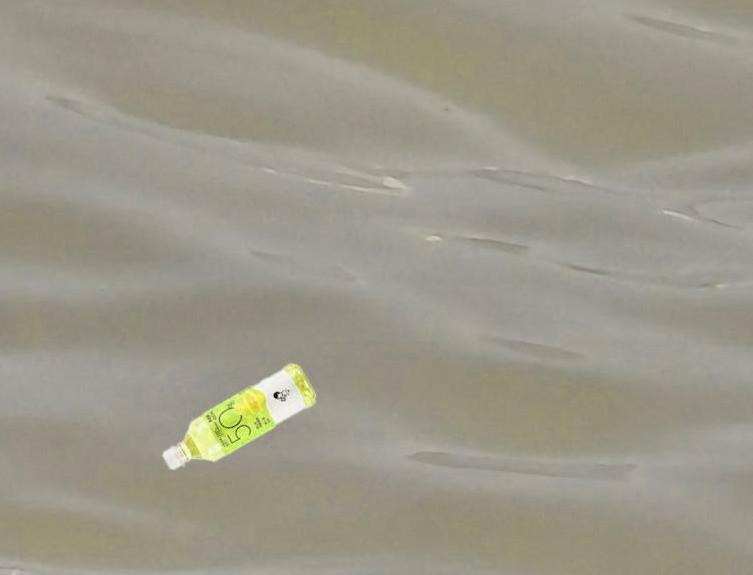Plastic: (155, 360, 319, 477)
